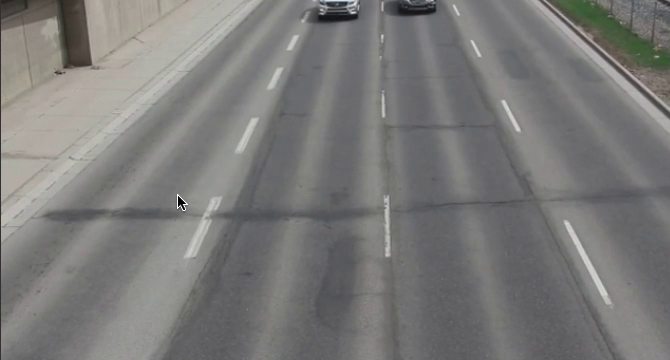car: (313, 1, 365, 19), (392, 1, 444, 19)
